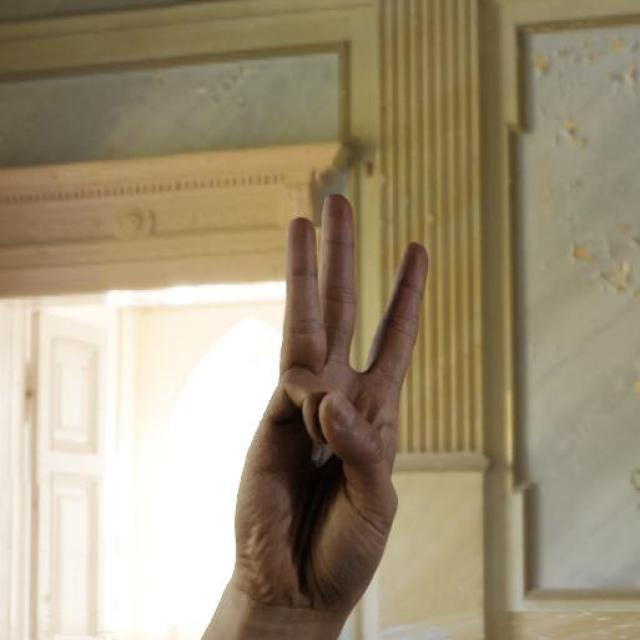W: (214, 188, 453, 620)
